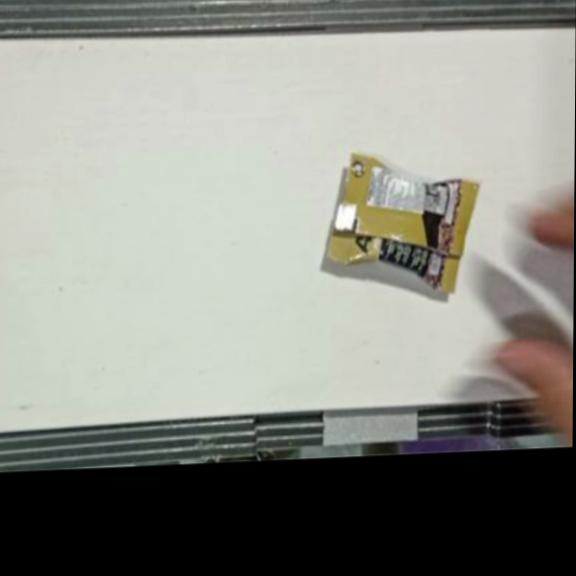Plastik: (326, 146, 480, 297)
